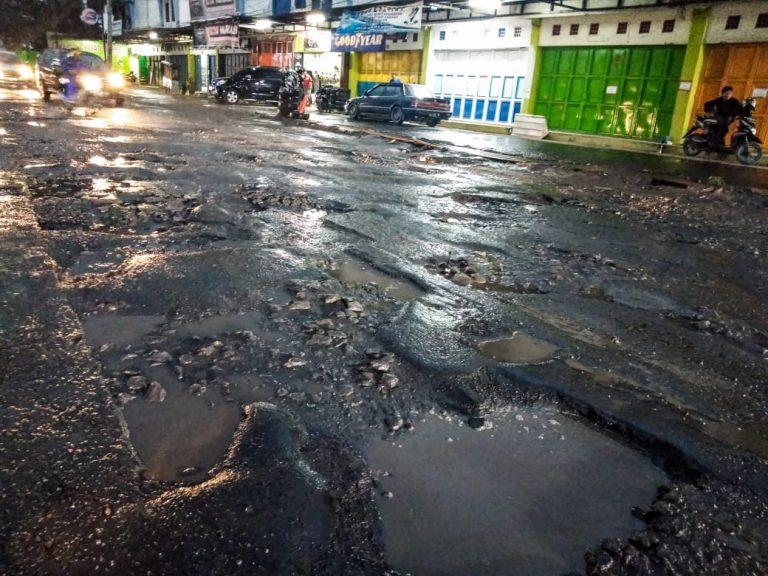Pothole: (67, 287, 707, 575), (31, 197, 254, 286), (594, 241, 750, 360), (0, 139, 201, 208), (341, 222, 442, 341), (396, 127, 595, 186), (416, 181, 583, 234), (239, 171, 345, 234), (462, 306, 576, 362), (642, 154, 718, 208), (294, 116, 372, 167), (641, 226, 732, 255), (0, 111, 76, 144)
